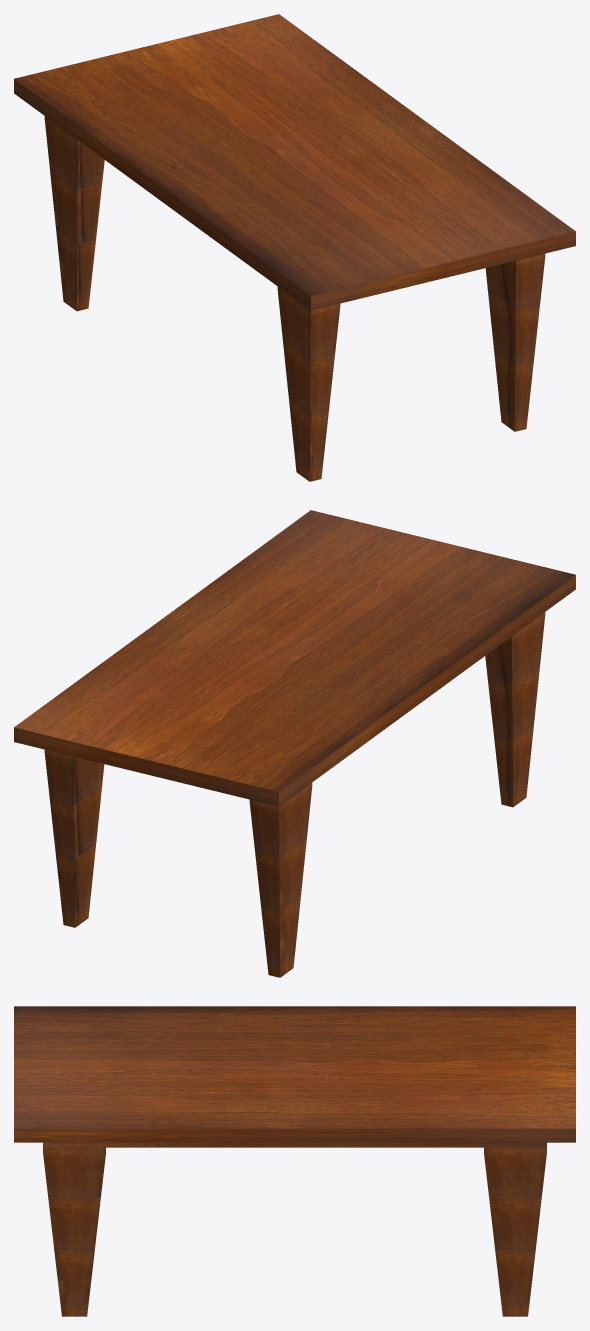
Rendered from ExportedBlenderFBXFile.fbx.
3 renders of one model, top to bottom at view 1: azimuth 30°, elevation 25°; view 2: azimuth 150°, elevation 25°; view 3: azimuth 270°, elevation 25°, orthographic. The views are drawn at different scales.
Parts seen in each view (by area): view 1: Cube; view 2: Cube; view 3: Cube.
Boxes of the visible parts, x1,y1,x2,y2 form: Cube: [14, 14, 575, 481]; Cube: [14, 510, 575, 977]; Cube: [14, 1006, 575, 1316].
Bounding box in the file's own units: 5.24 × 3.97 × 10.16.
